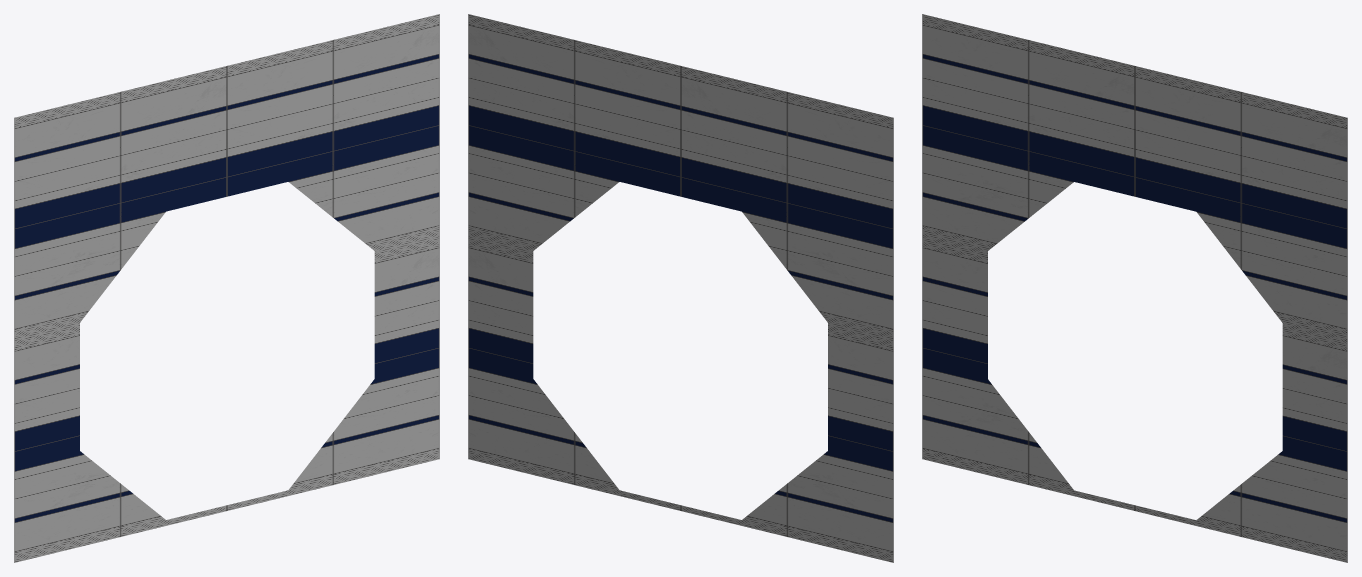
The model's file is hub doors octa.fbx.
3 renders of one model, left to right at view 1: azimuth 30°, elevation 25°; view 2: azimuth 150°, elevation 25°; view 3: azimuth 330°, elevation 25°, orthographic.
Parts seen in each view (by area): view 1: wall_door_octa; view 2: wall_door_octa; view 3: wall_door_octa.
Part boxes in pixels (x1=…): wall_door_octa: x1=14, y1=14, x2=439, y2=562; wall_door_octa: x1=468, y1=14, x2=893, y2=562; wall_door_octa: x1=922, y1=14, x2=1347, y2=562.
Size of the model in its own units: 1600 by 1600 by 2.98e-06.
